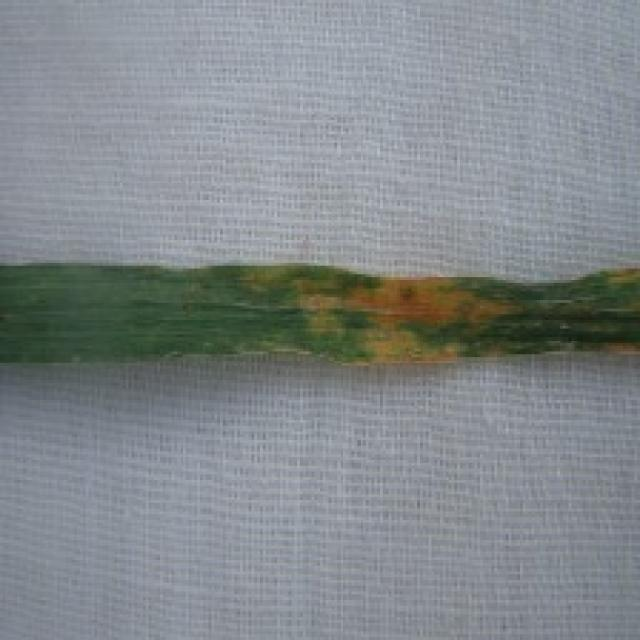Bacterial_Blight: (226, 268, 515, 353), (563, 281, 640, 356)
